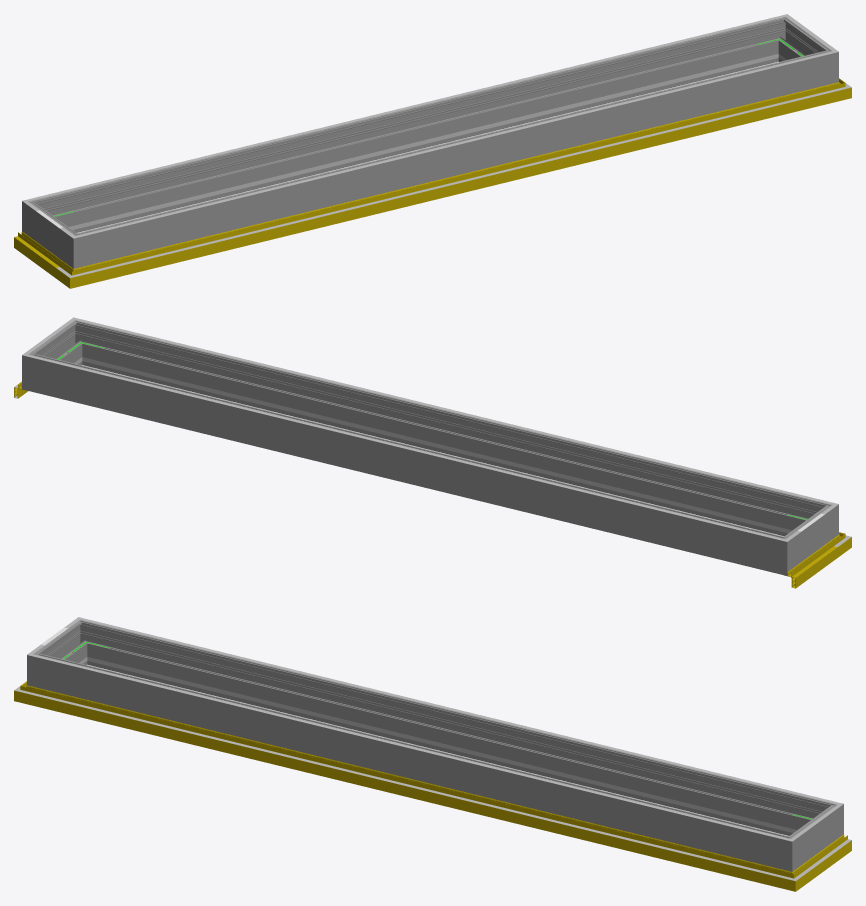
3 renders of one model, top to bottom at view 1: azimuth 30°, elevation 25°; view 2: azimuth 150°, elevation 25°; view 3: azimuth 330°, elevation 25°, orthographic.
Parts seen in each view (by area): view 1: 3DGeom-276, 3DGeom-298, 3DGeom-90, 3DGeom-244, 3DGeom-100, 3DGeom-304, 3DGeom-316, 3DGeom-270, 3DGeom-290, 3DGeom-284, 3DGeom-268, 3DGeom-85 (+3 smaller); view 2: 3DGeom-298, 3DGeom-276, 3DGeom-239, 3DGeom-304, 3DGeom-316, 3DGeom-278, 3DGeom-284, 3DGeom-85, 3DGeom-290, 3DGeom-268, 3DGeom-297, 3DGeom-270; view 3: 3DGeom-276, 3DGeom-298, 3DGeom-90, 3DGeom-244, 3DGeom-100, 3DGeom-316, 3DGeom-304, 3DGeom-290, 3DGeom-270, 3DGeom-278, 3DGeom-297, 3DGeom-97 (+3 smaller).
Boxes of the visible parts, x1=… form: 3DGeom-276: x1=48, y1=22, x2=774, y2=232; 3DGeom-298: x1=93, y1=54, x2=814, y2=262; 3DGeom-90: x1=90, y1=86, x2=827, y2=282; 3DGeom-244: x1=77, y1=59, x2=755, y2=228; 3DGeom-100: x1=93, y1=92, x2=826, y2=272; 3DGeom-304: x1=47, y1=20, x2=764, y2=196; 3DGeom-316: x1=96, y1=56, x2=814, y2=232; 3DGeom-270: x1=59, y1=226, x2=97, y2=268; 3DGeom-290: x1=810, y1=42, x2=838, y2=87; 3DGeom-284: x1=765, y1=14, x2=797, y2=62; 3DGeom-268: x1=36, y1=209, x2=67, y2=257; 3DGeom-85: x1=14, y1=231, x2=63, y2=278; 3DGeom-298: x1=86, y1=325, x2=812, y2=536; 3DGeom-276: x1=46, y1=358, x2=766, y2=569; 3DGeom-239: x1=105, y1=363, x2=783, y2=531; 3DGeom-304: x1=47, y1=359, x2=764, y2=535; 3DGeom-316: x1=96, y1=323, x2=814, y2=499; 3DGeom-278: x1=763, y1=530, x2=801, y2=575; 3DGeom-284: x1=22, y1=346, x2=50, y2=394; 3DGeom-85: x1=784, y1=541, x2=837, y2=588; 3DGeom-290: x1=63, y1=317, x2=95, y2=365; 3DGeom-268: x1=794, y1=512, x2=824, y2=561; 3DGeom-297: x1=40, y1=328, x2=79, y2=364; 3DGeom-270: x1=803, y1=500, x2=838, y2=544; 3DGeom-276: x1=91, y1=625, x2=817, y2=835; 3DGeom-298: x1=51, y1=657, x2=772, y2=865; 3DGeom-90: x1=38, y1=689, x2=775, y2=885; 3DGeom-244: x1=110, y1=662, x2=788, y2=831; 3DGeom-100: x1=39, y1=695, x2=772, y2=875; 3DGeom-316: x1=51, y1=659, x2=769, y2=835; 3DGeom-304: x1=101, y1=623, x2=818, y2=799; 3DGeom-290: x1=768, y1=829, x2=806, y2=871; 3DGeom-270: x1=27, y1=645, x2=55, y2=690; 3DGeom-278: x1=68, y1=617, x2=100, y2=665; 3DGeom-297: x1=798, y1=812, x2=829, y2=861; 3DGeom-97: x1=802, y1=834, x2=851, y2=881.
Size of the model in its own units: 4.88 by 0.2667 by 0.6096.
